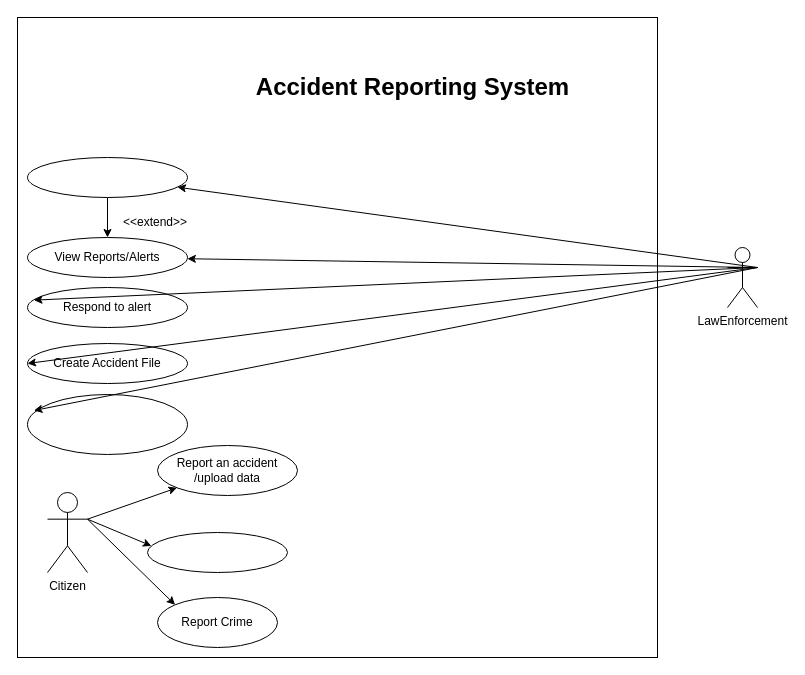
Image size: 805x675. Some labels were removed from this diagram. The box of each missing label's shape, as (x1, y1, x2, y2) in pixels:
Record accident details: (26, 394, 188, 454)
System login: (26, 156, 188, 198)
Track Feedback: (146, 532, 288, 572)
